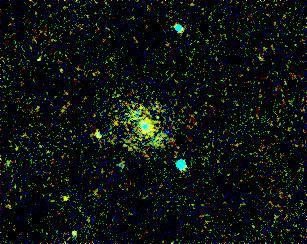star: (53, 183, 83, 213)
